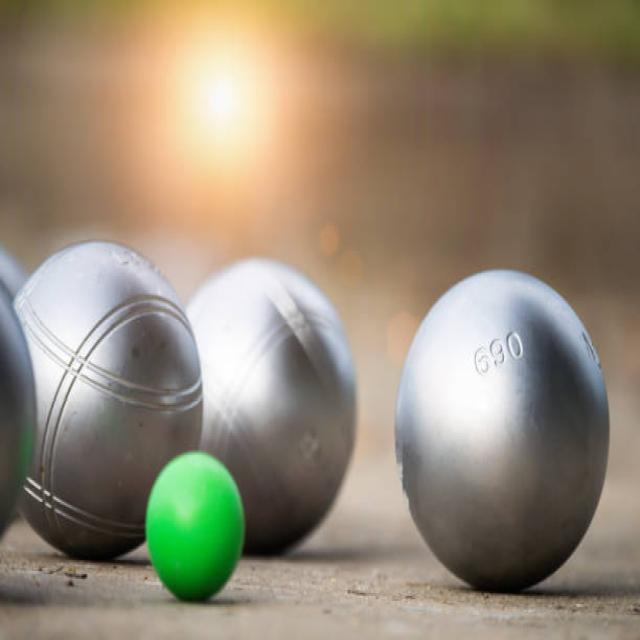hatball: (135, 452, 247, 604)
petanque: (389, 261, 619, 608), (6, 235, 207, 571), (179, 254, 366, 559), (0, 250, 41, 557)
